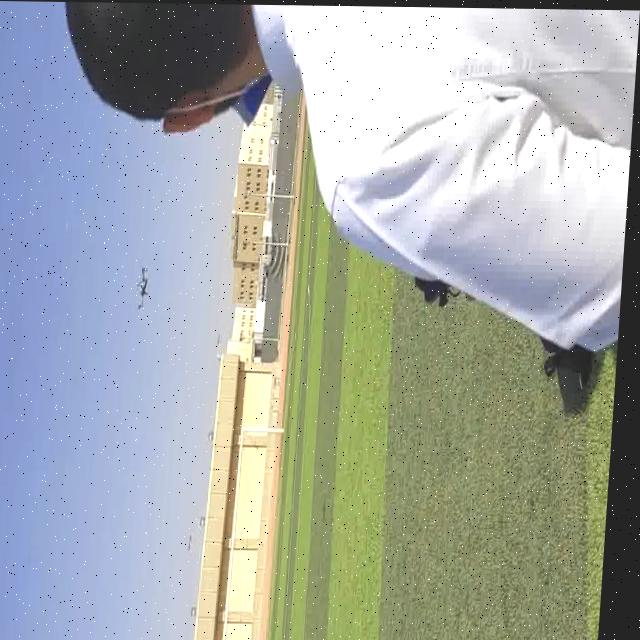drone: (134, 260, 157, 306)
